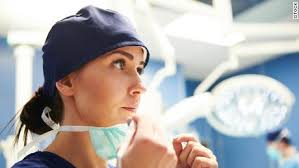mask_weared_incorrect: (90, 52, 154, 147)
with_mask: (266, 138, 284, 161)
